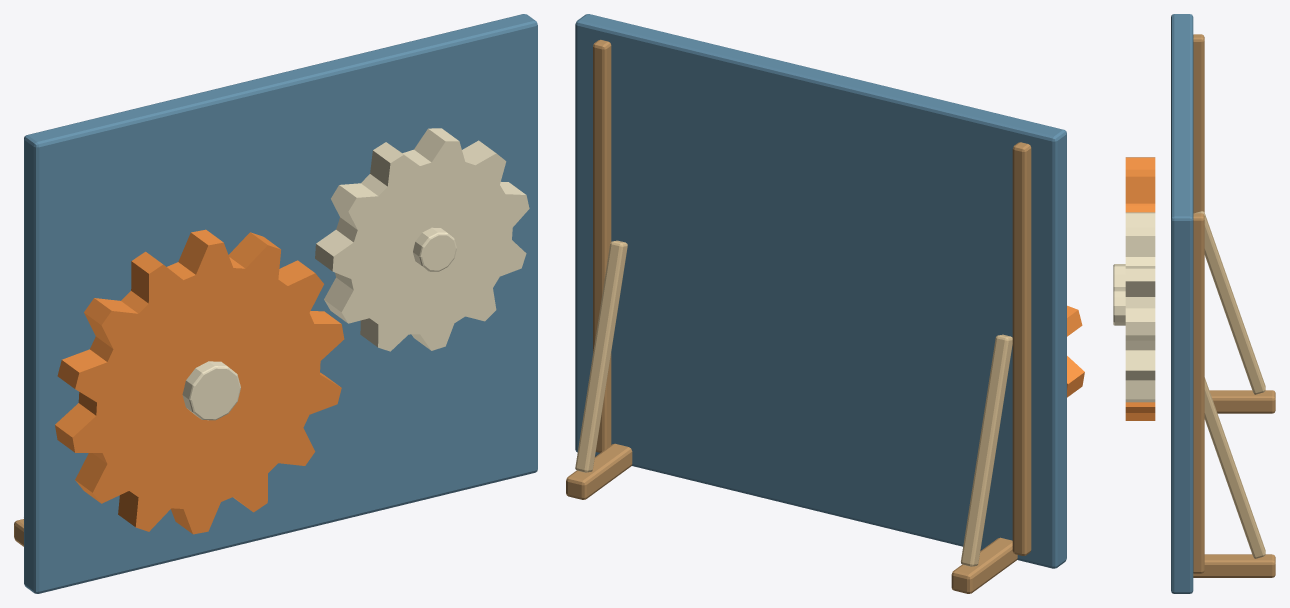
File: S088_oversized_gear_wall.glb
3 views of the same model, side by side, from view 1: azimuth 30°, elevation 25°; view 2: azimuth 150°, elevation 25°; view 3: azimuth 270°, elevation 25° (orthographic). The views are drawn at different scales.
Visible parts, largest first — view 1: gear_scenic_back, foam_gear, foam_gear.001, foam_gear_hub, foam_gear_hub.001; view 2: gear_scenic_back, back_frame_upright, back_frame_upright.001, rear_triangular_brace.001, rear_triangular_brace, rear_plywood_foot.001, rear_plywood_foot, foam_gear; view 3: gear_scenic_back, foam_gear.001, back_frame_upright.001, rear_triangular_brace, rear_triangular_brace.001, foam_gear, back_frame_upright, rear_plywood_foot.001, rear_plywood_foot, foam_gear_hub.001, foam_gear_hub.
Part boxes in pixels (x1,y1,x2,y2): gear_scenic_back: (24,14,537,593); foam_gear: (55,229,344,534); foam_gear.001: (315,128,529,351); foam_gear_hub: (182,361,240,420); foam_gear_hub.001: (413,227,456,271); gear_scenic_back: (575,14,1066,568); back_frame_upright: (1012,142,1031,555); back_frame_upright.001: (593,39,611,452); rear_triangular_brace.001: (575,240,627,472); rear_triangular_brace: (961,334,1012,566); rear_plywood_foot.001: (566,443,632,499); rear_plywood_foot: (951,537,1017,593); foam_gear: (1067,305,1084,397); gear_scenic_back: (1171,14,1193,593); foam_gear.001: (1125,212,1155,402); back_frame_upright.001: (1193,213,1204,573); rear_triangular_brace: (1195,211,1265,394); rear_triangular_brace.001: (1204,377,1265,558); foam_gear: (1125,157,1155,420); back_frame_upright: (1193,34,1204,213); rear_plywood_foot.001: (1193,554,1275,577); rear_plywood_foot: (1209,390,1275,413); foam_gear_hub.001: (1113,289,1125,325); foam_gear_hub: (1113,264,1125,290).
Size of the model in its own units: 2.8 by 2.4 by 0.9373.
